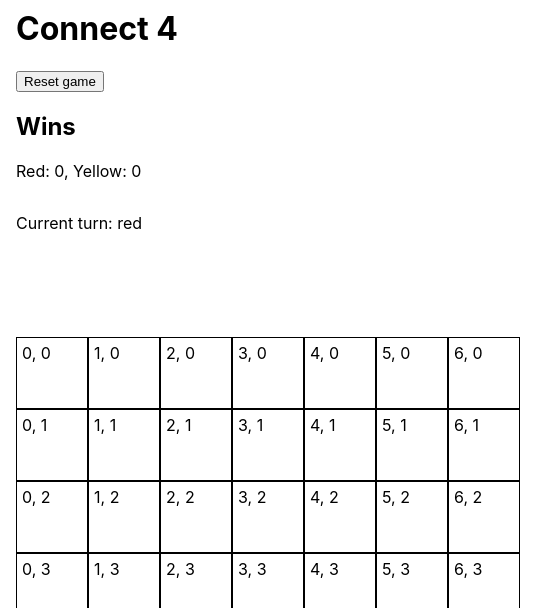
Test case: should change the user's turn when current user make their move
Click the button with test id "grid-cell-": [52, 373] box [16,337,88,409]
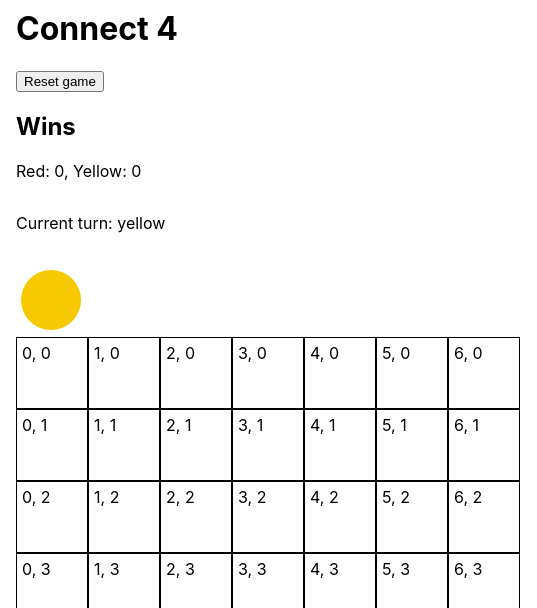
Expected: the text "Current turn: yellow" is shown, [16,213,165,233]
